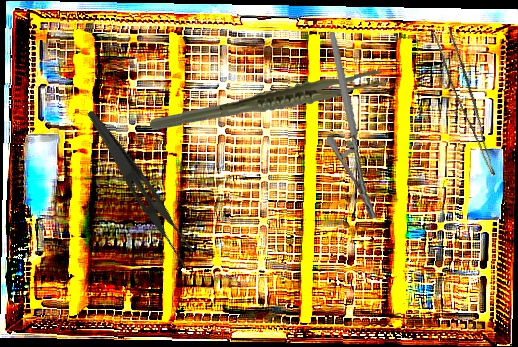Dressing Forceps: (70, 108, 206, 271)
Needle Holder: (307, 31, 399, 220)
Tissue Forceps: (149, 68, 387, 133), (428, 25, 512, 177)
